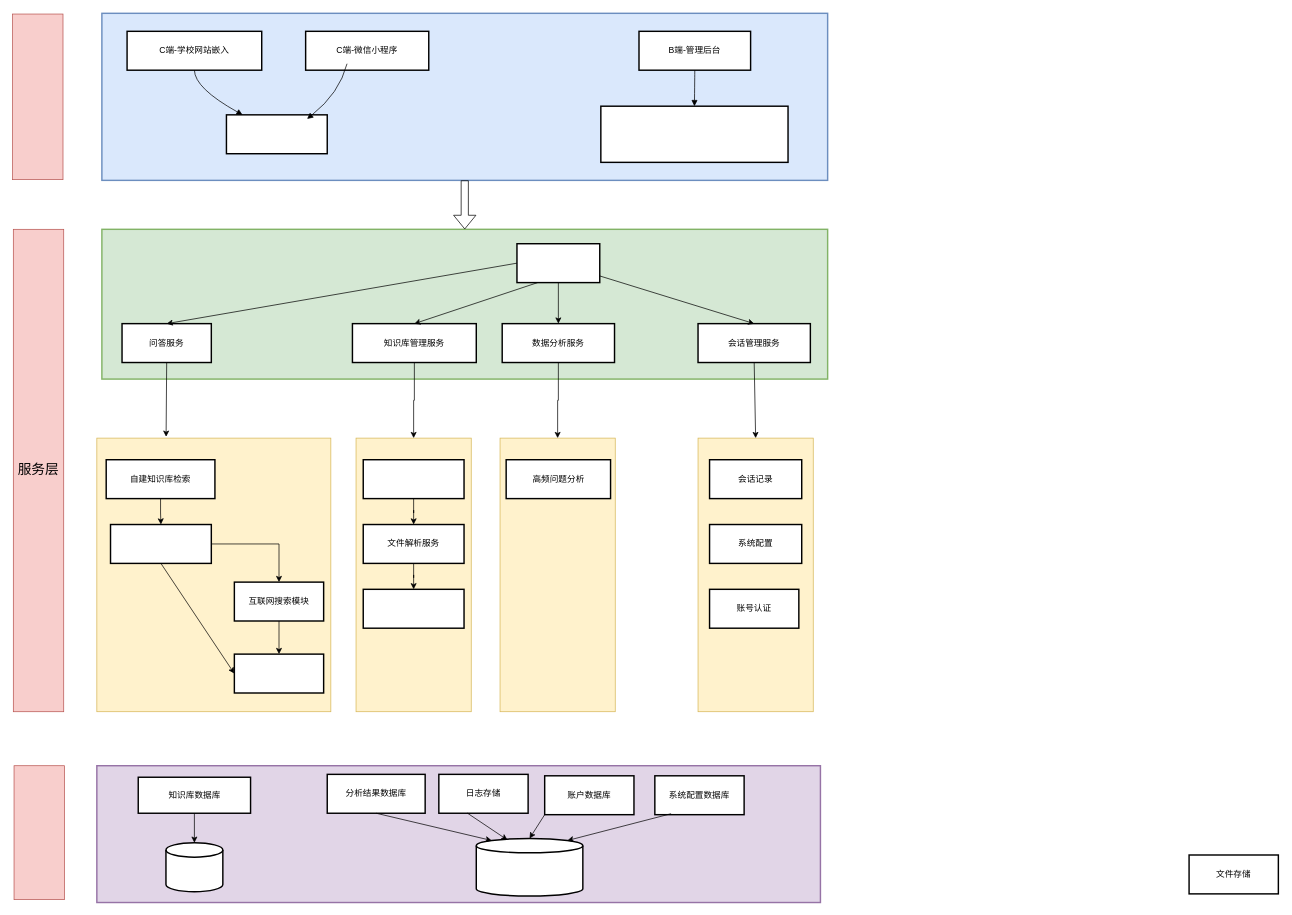
The diagram is 1292 pixels wide and 915 high, and some of its shapes have lost their labels. Here are the shapes that lost their labels. From the top down, the centre of each, then its label:
the point at 37,96: 用户层
the point at 276,134: 文本对话框
the point at 694,134: 停机维护/知识库管理/数据可视化
the point at 558,263: API网关
the point at 413,479: 文件上传存储
the point at 160,543: 大模型调用
the point at 413,608: 知识库更新引擎
the point at 278,673: 结果输出
the point at 38,832: 数据层
the point at 194,867: 向量数据库
the point at 529,866: MongoDB
